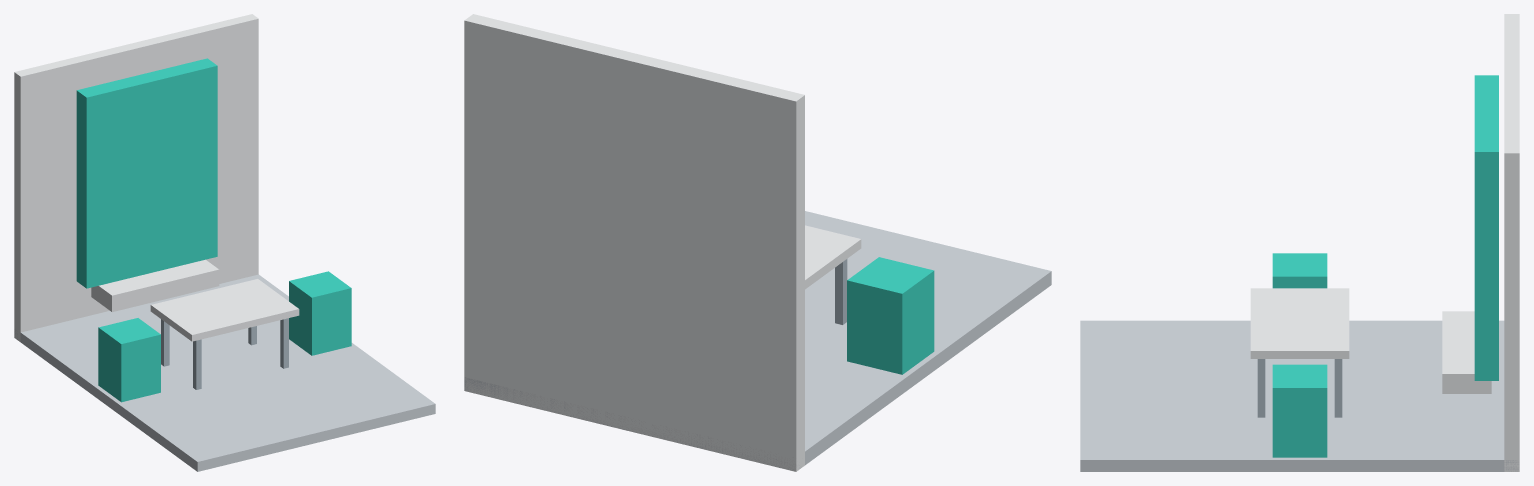
3 renders of one model, left to right at view 1: azimuth 30°, elevation 25°; view 2: azimuth 150°, elevation 25°; view 3: azimuth 270°, elevation 25°, orthographic. The views are drawn at different scales.
Parts seen in each view (by area): view 1: Exhibition Booth Concept; view 2: Exhibition Booth Concept; view 3: Exhibition Booth Concept.
Part boxes in pixels (x1,y1,x2,y2): Exhibition Booth Concept: (14,14,435,471); Exhibition Booth Concept: (464,14,1051,471); Exhibition Booth Concept: (1080,14,1519,471).
Size of the model in its own units: 3 by 3.2 by 4.
